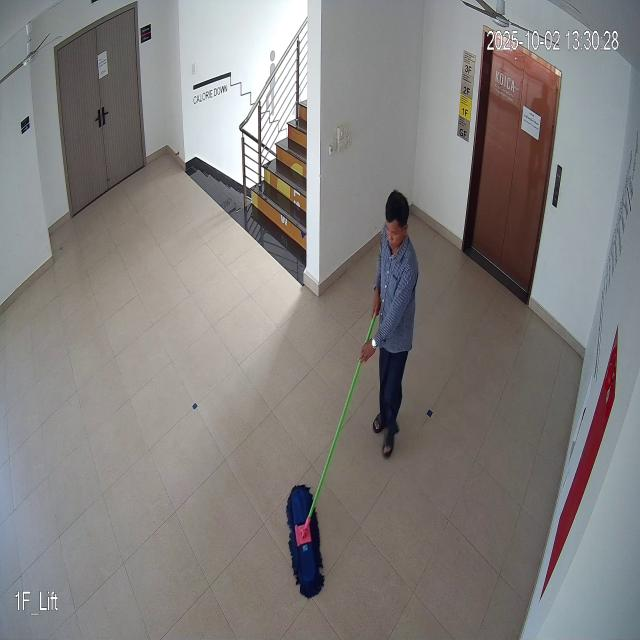face: (381, 186, 409, 256)
